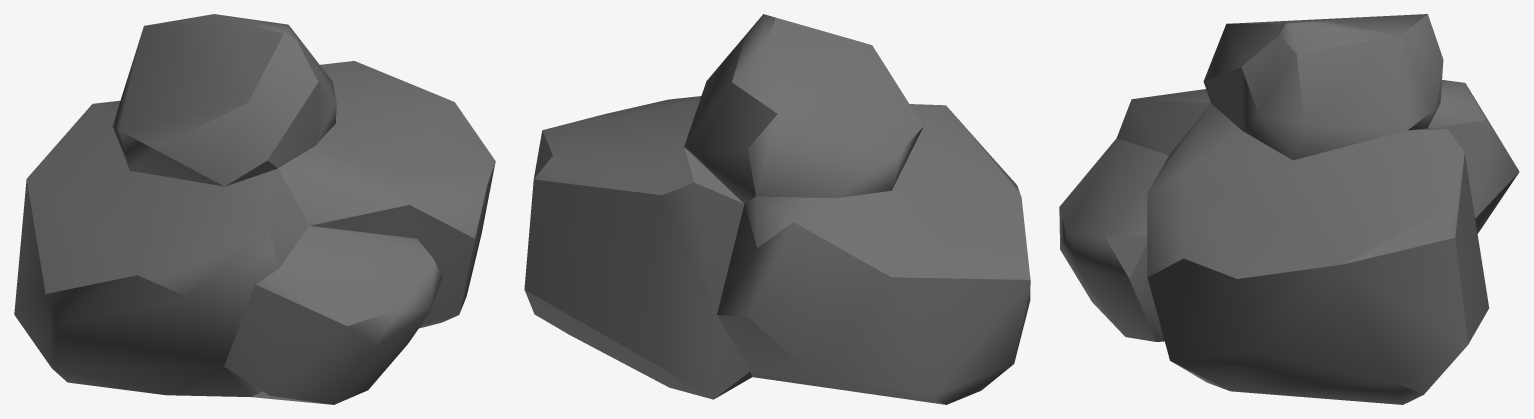
File: Stone_16.fbx
The picture shows the model from 3 angles, left to right: view 1: azimuth 30°, elevation 25°; view 2: azimuth 150°, elevation 25°; view 3: azimuth 270°, elevation 25°; orthographic projection. The views are drawn at different scales.
Parts seen in each view (by area): view 1: Stone_16; view 2: Stone_16; view 3: Stone_16.
Part boxes in pixels (x1,y1,x2,y2): Stone_16: (14, 14, 495, 404); Stone_16: (524, 14, 1030, 404); Stone_16: (1059, 14, 1519, 404).
Size of the model in its own units: 262 by 180 by 230.
